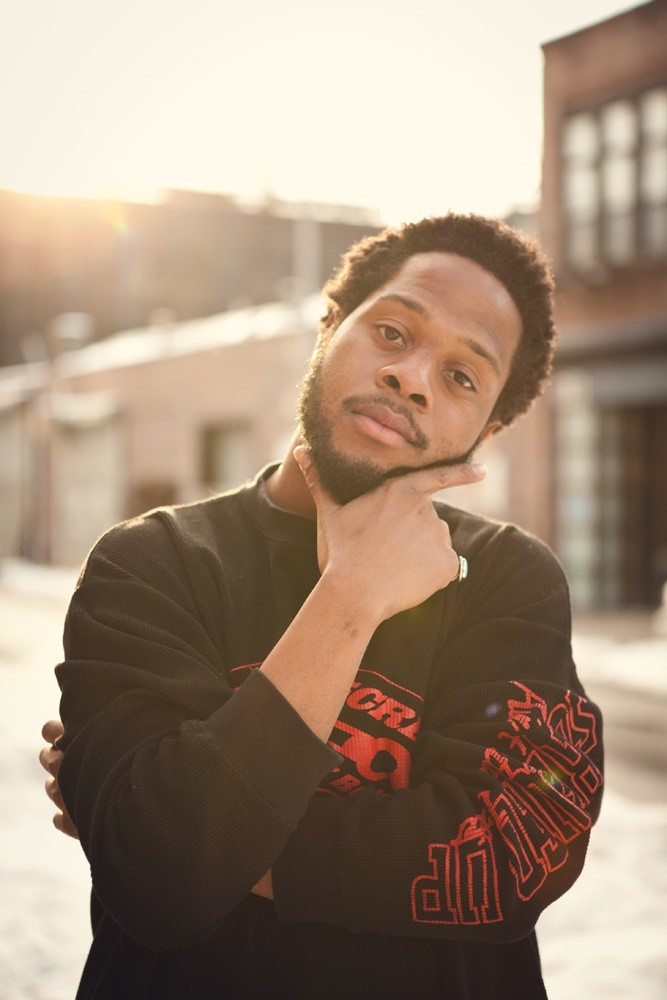face_no_mask: (303, 218, 552, 489)
